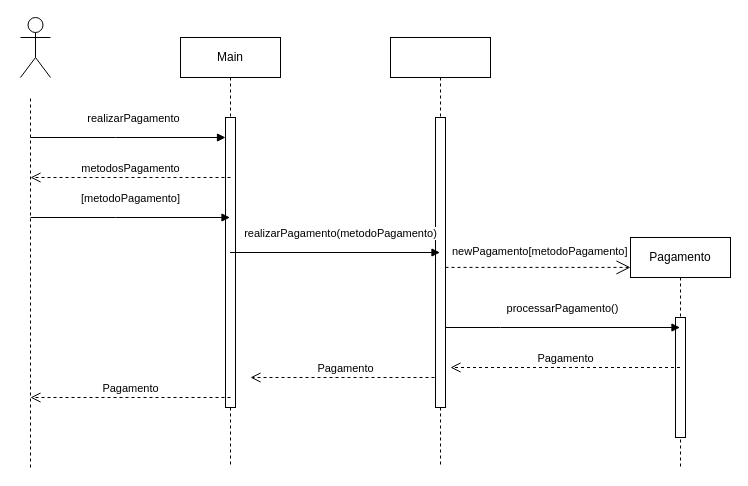
Image size: 748x486. Some labels were removed from this diagram. Here are the shapes that lost their labels. From the top down, the centre of each, then its label:
At (x=35, y=47): "Cliente".
At (x=440, y=252): "Controlador".
